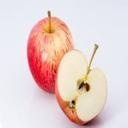apple: (54, 48, 108, 125)
